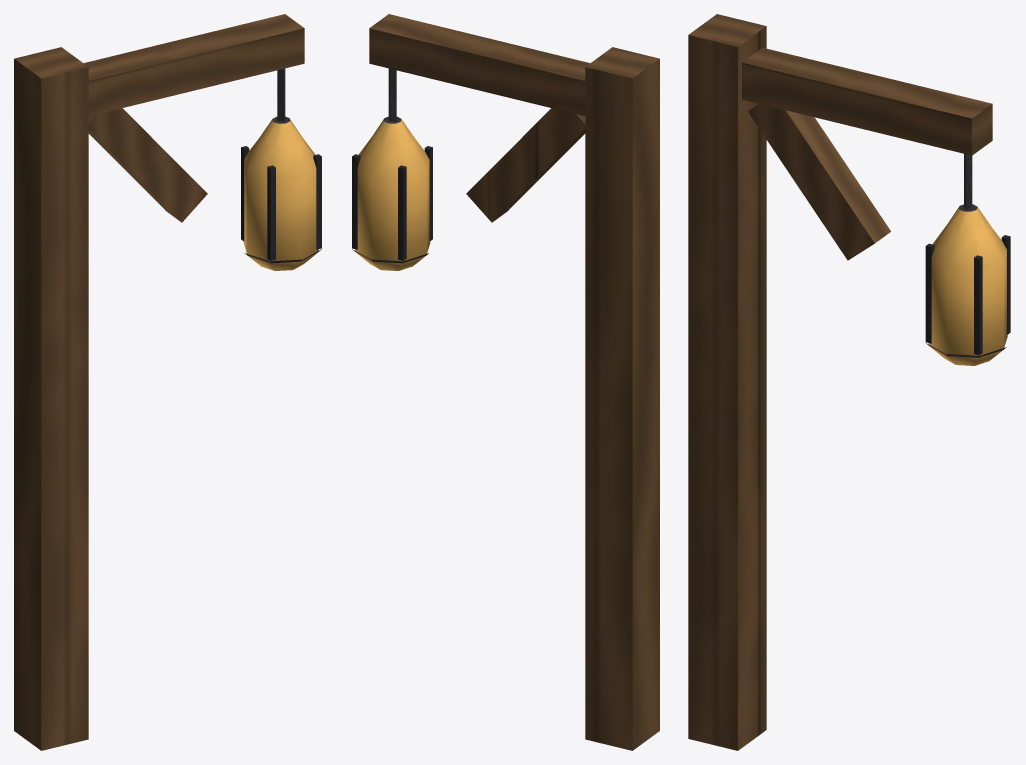
File: prop_lantaarn.glb
The picture shows the model from 3 angles, left to right: view 1: azimuth 30°, elevation 25°; view 2: azimuth 150°, elevation 25°; view 3: azimuth 330°, elevation 25°; orthographic projection. The views are drawn at different scales.
Visible parts, largest first — view 1: prop_lantaarn; view 2: prop_lantaarn; view 3: prop_lantaarn.
Part boxes in pixels (x1,y1,x2,y2): prop_lantaarn: [14, 14, 321, 750]; prop_lantaarn: [352, 14, 659, 750]; prop_lantaarn: [688, 14, 1010, 750].
Bounding box in the file's own units: 0.43 × 0.95 × 0.11.
1 material, 1 textured.
